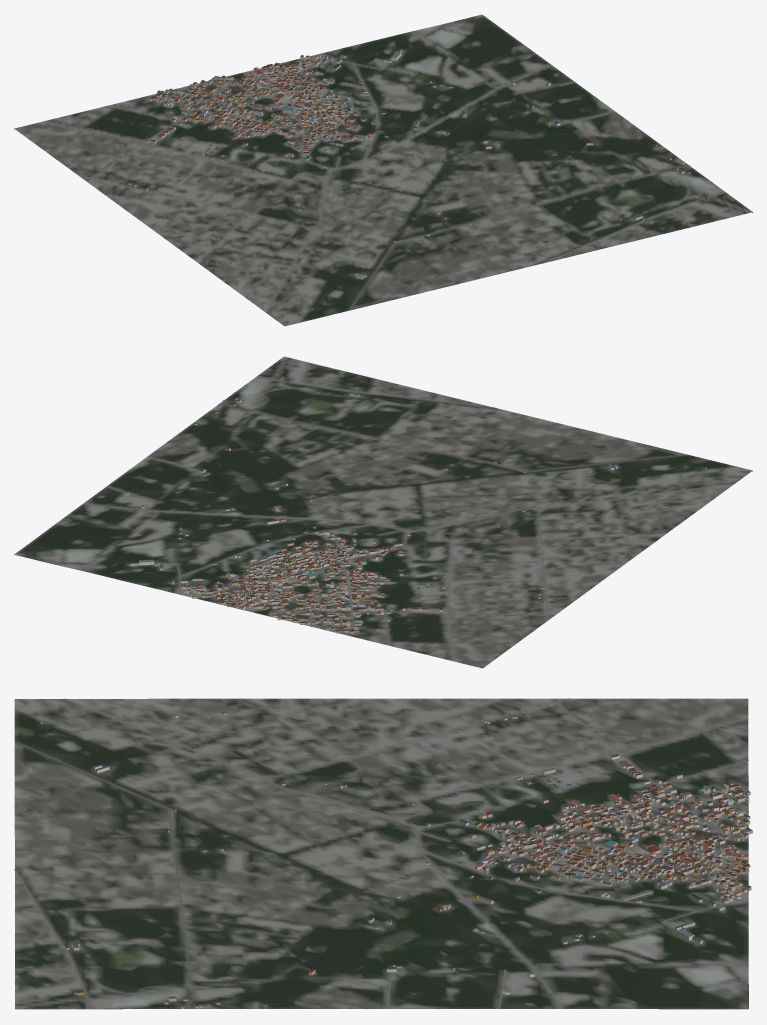
3 renders of one model, top to bottom at view 1: azimuth 30°, elevation 25°; view 2: azimuth 150°, elevation 25°; view 3: azimuth 270°, elevation 25°, orthographic. The views are drawn at different scales.
Visible parts, largest first — view 1: ground, buildings, roads; view 2: ground, buildings, roads; view 3: ground, buildings, roads.
Part boxes in pixels (x1,y1,x2,y2): ground: [14, 14, 752, 326]; buildings: [127, 48, 709, 310]; roads: [43, 54, 726, 312]; ground: [14, 356, 752, 668]; buildings: [123, 376, 706, 633]; roads: [83, 376, 734, 661]; ground: [14, 698, 748, 1009]; buildings: [40, 712, 752, 1008]; roads: [14, 698, 748, 1008].
Bounding box in the file's own units: 1405 × 14.45 × 1412.
